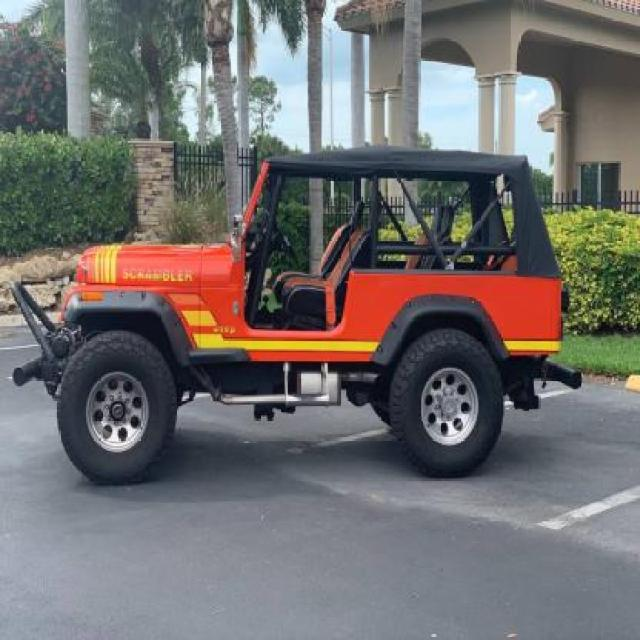Jeep: (2, 140, 577, 483)
